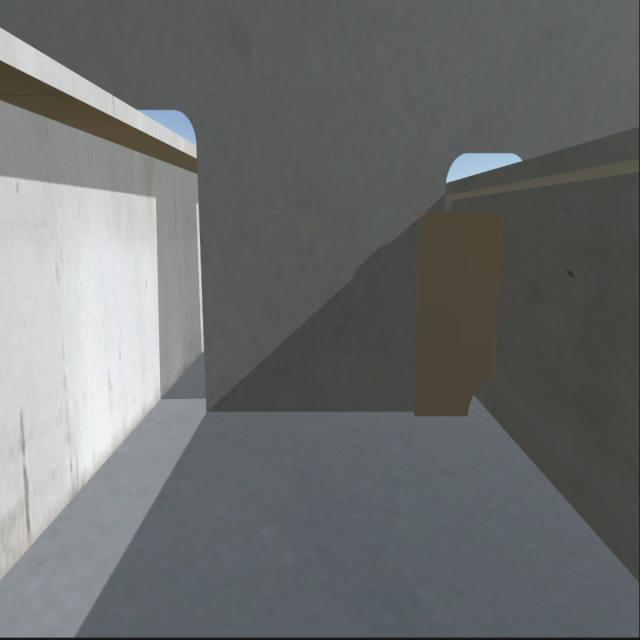fillet_hole: (466, 384, 493, 418)
fillet_yong_jeop_jang: (200, 411, 458, 415)
longi_yong_jeop_jang: (491, 221, 504, 382)
plate_CP01: (425, 209, 503, 423)
